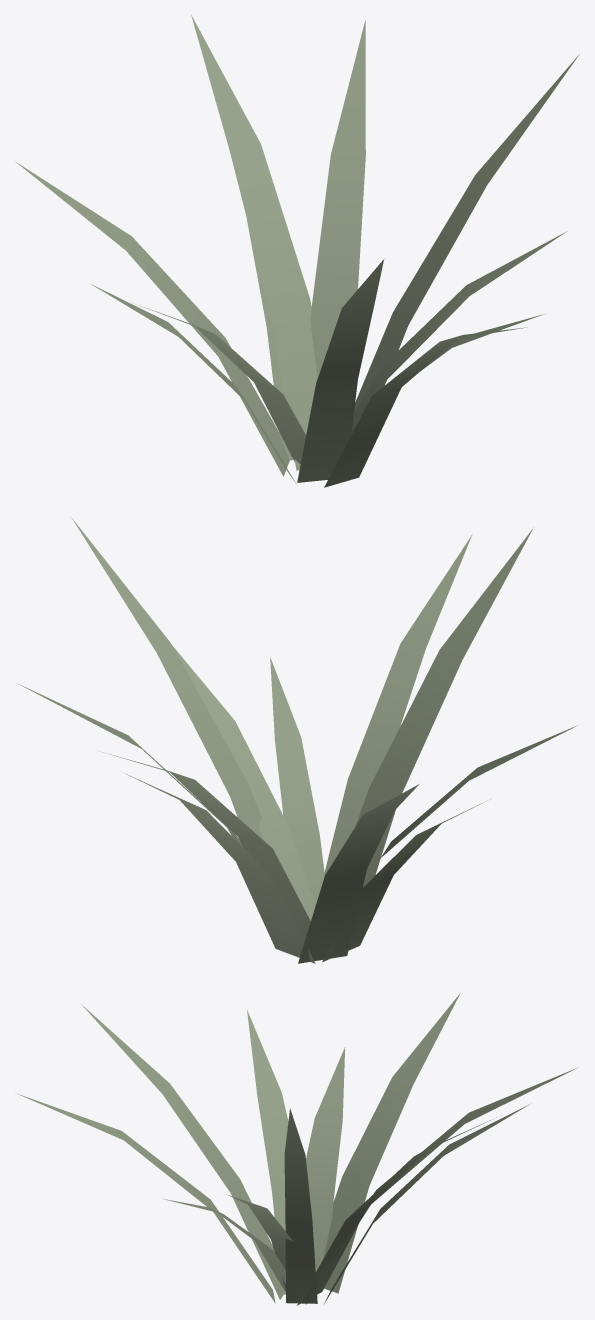
The model's file is grass_tuft.glb.
The picture shows the model from 3 angles, top to bottom: view 1: azimuth 30°, elevation 25°; view 2: azimuth 150°, elevation 25°; view 3: azimuth 270°, elevation 25°; orthographic projection. The views are drawn at different scales.
Visible parts, largest first — view 1: Body; view 2: Body; view 3: Body.
Part boxes in pixels (left/top/right/bottom): Body: left=15, top=15, right=579, bottom=487; Body: left=17, top=517, right=577, bottom=963; Body: left=17, top=993, right=577, bottom=1305.
Bounding box in the file's own units: 0.9957 × 0.7135 × 1.29.
